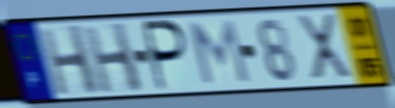8: (256, 16, 297, 83)
H: (37, 22, 102, 97), (81, 20, 146, 95)
M: (186, 18, 252, 87)
P: (142, 18, 191, 93)
X: (294, 12, 356, 83)
